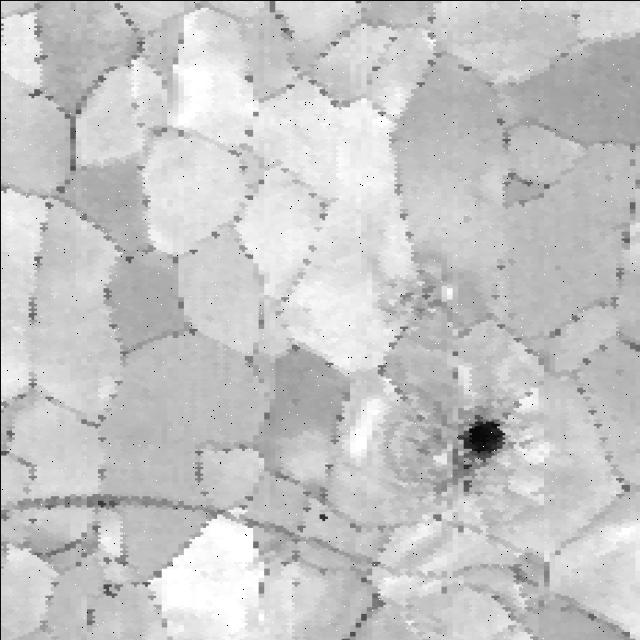good_void: (448, 392, 538, 481), (378, 263, 454, 324), (70, 601, 106, 633), (96, 578, 128, 601), (310, 508, 331, 524), (22, 514, 45, 528), (287, 577, 302, 589)
